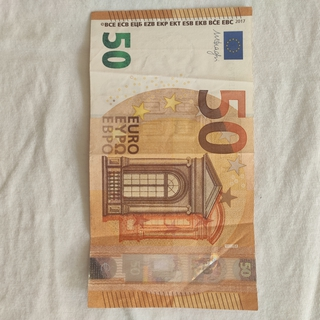50EUROFront: (85, 5, 260, 312)
